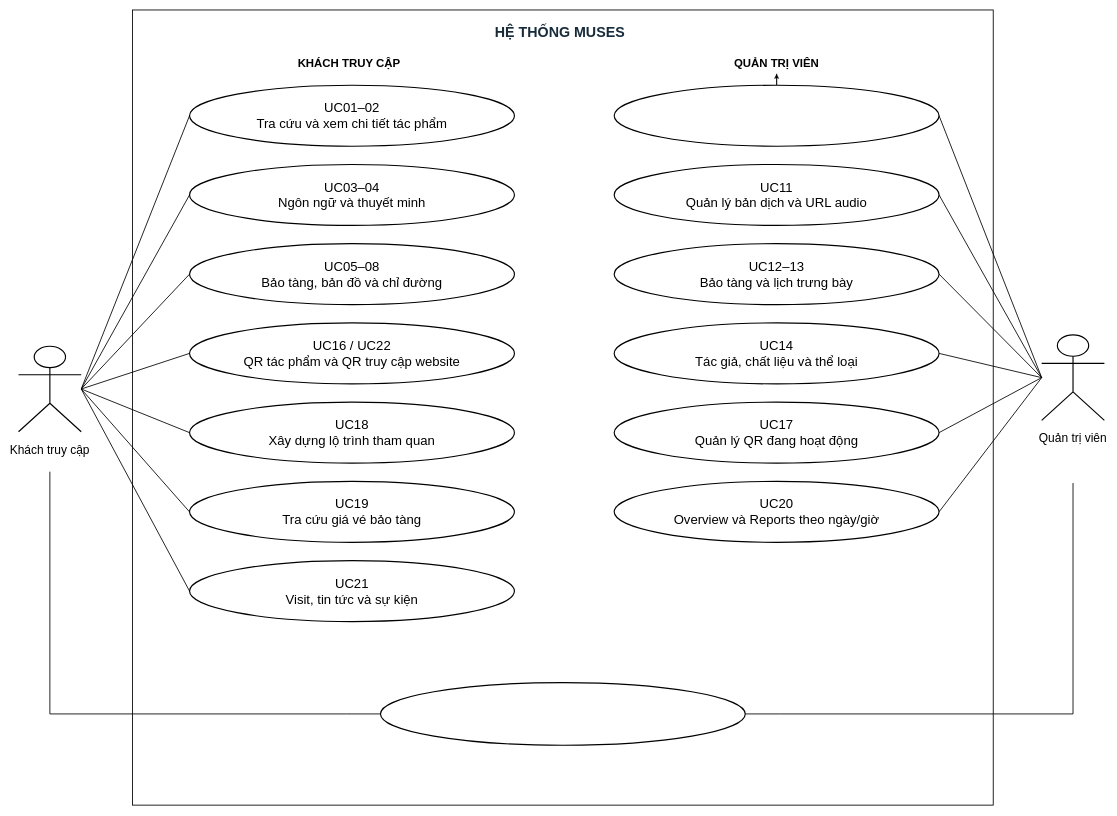
Some shapes in this 1117 by 816 pixel diagram are drawn without their labels. Each missing label, with the centre of its shape:
UC09 / UC15 Đăng nhập và đăng xuất: the point at 563,714
UC10 Quản lý và công bố tác phẩm: the point at 776,115
